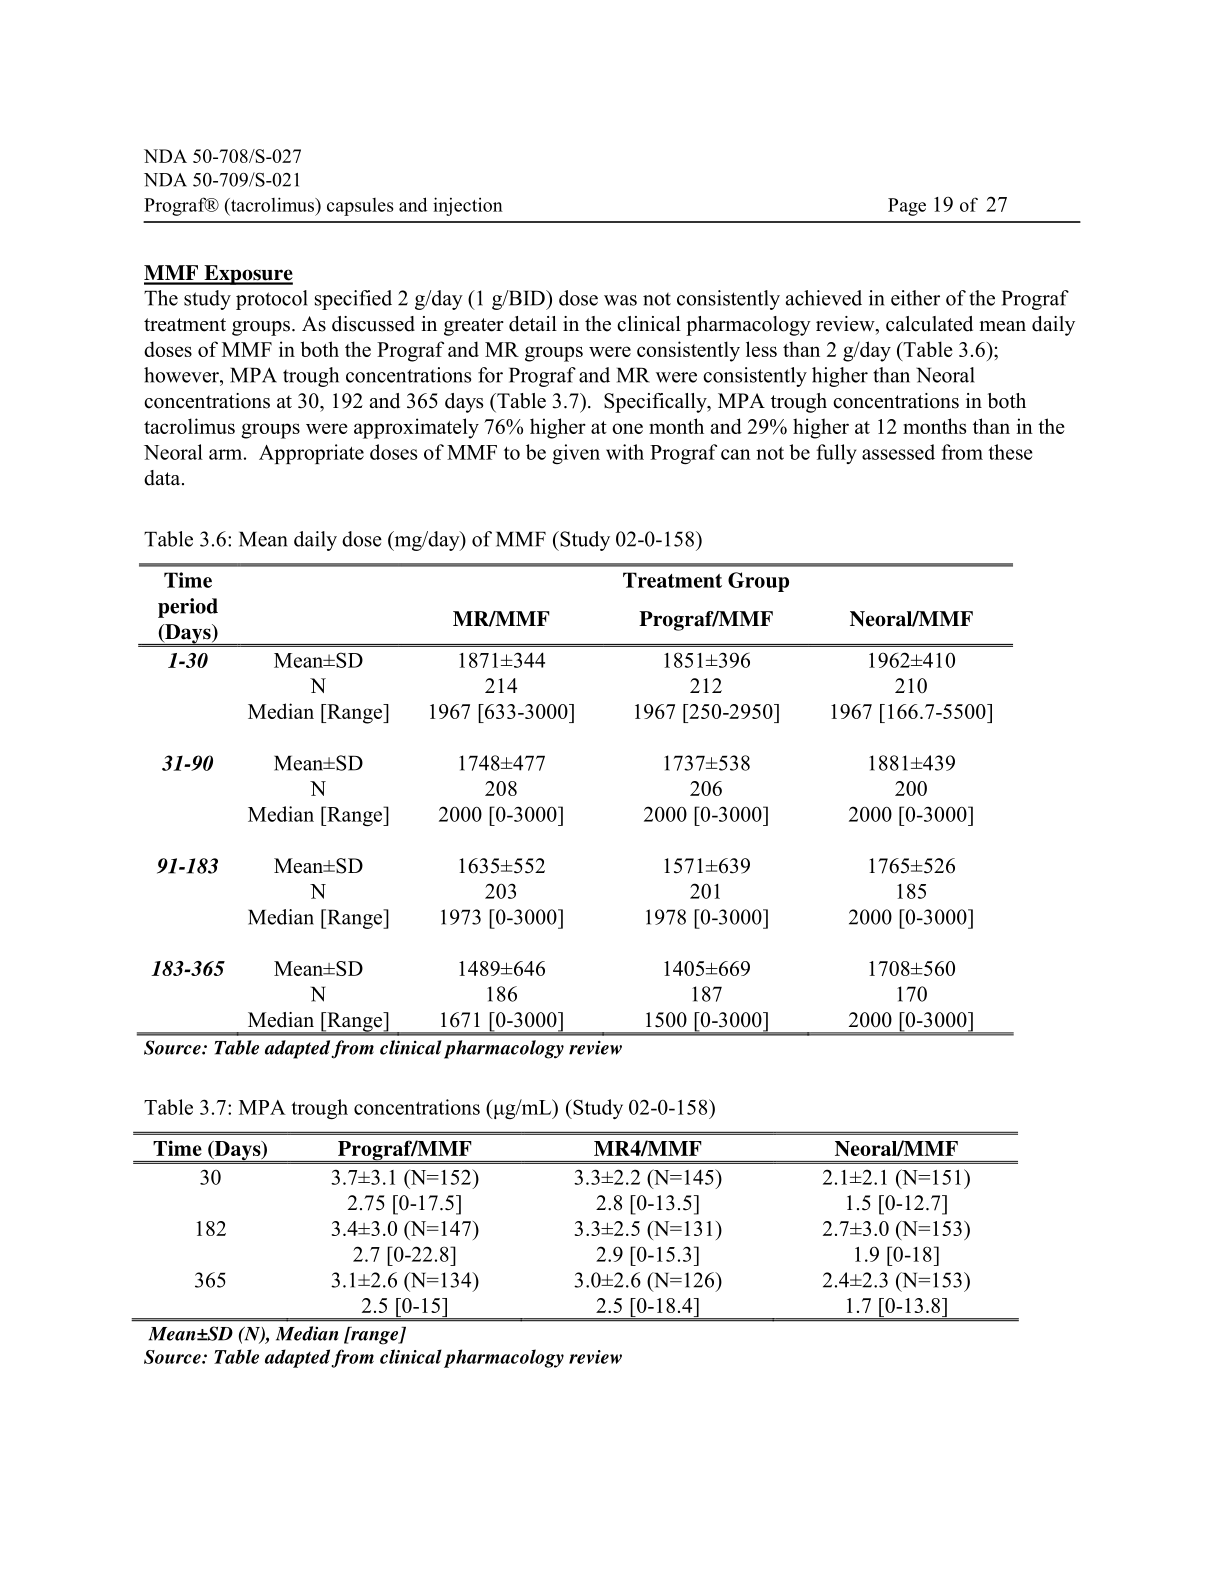partial_lined: (132, 1129, 1022, 1324)
partial_lined_merged_cells: (138, 562, 1012, 1034)
